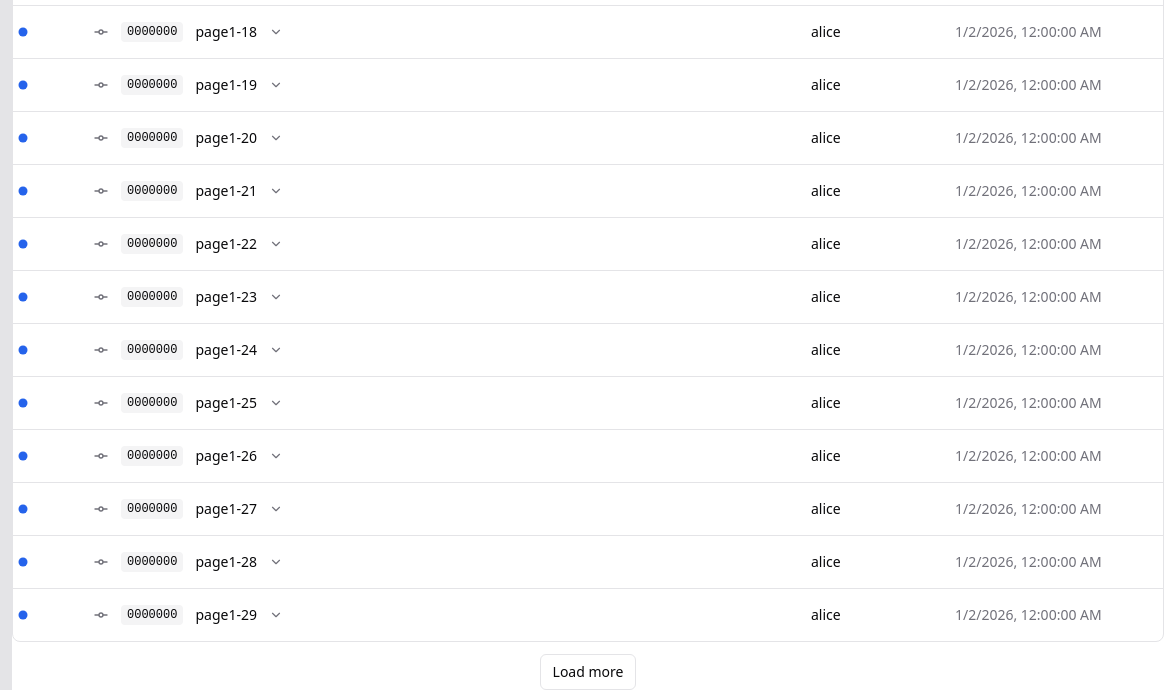
Test case: CommitsTab pagination › 加载更多会追加下一页提交
The width and height of the screenshot is (1164, 690).
(page scrolled)
Click the button "Load more" at x=588, y=672, box 540,654 -> 636,689
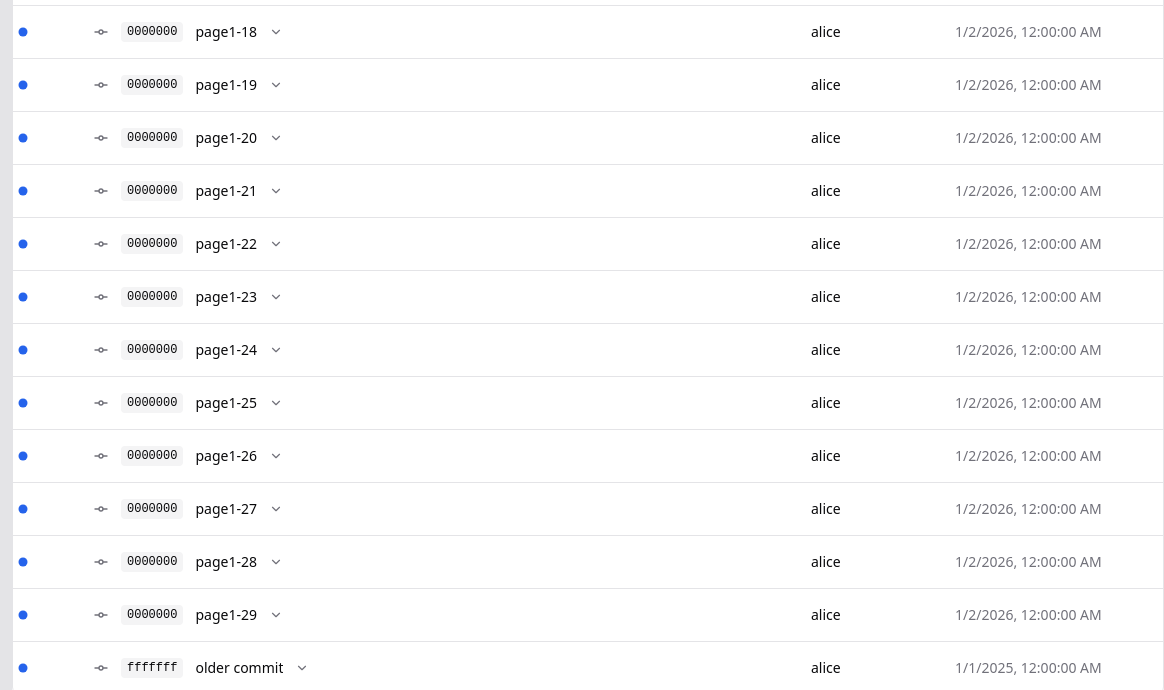
Expected: the text "older commit" is shown, 195,658 -> 283,678
